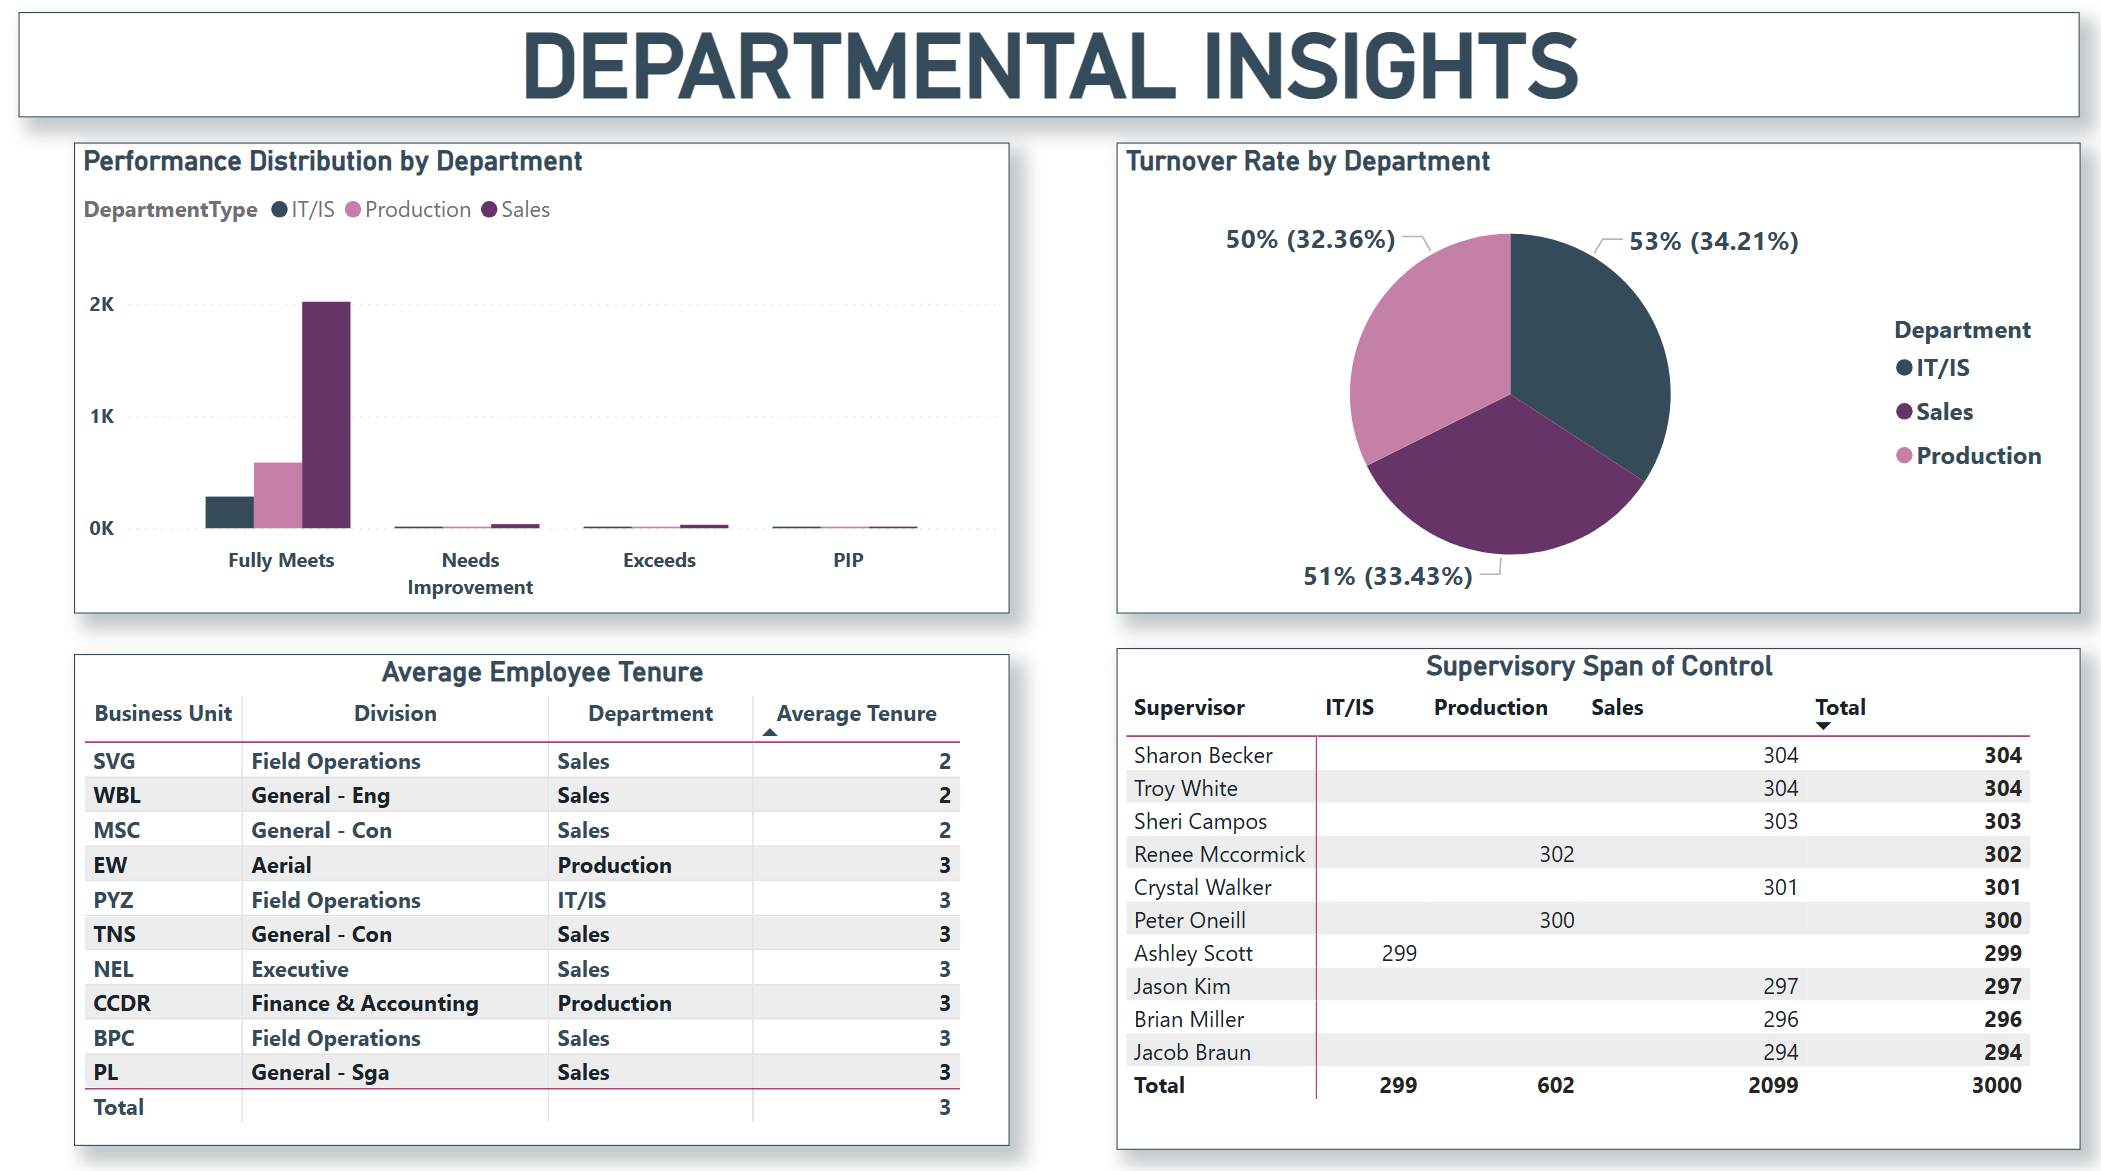

The page's visual inventory and layout, read from the dashboard file:
{"tool":"powerbi","page":{"name":"Departmental Insights","canvas":[1280,720],"ordinal":3},"visuals":[{"type":"lineClusteredColumnComboChart","title":"Performance Distribution by Department","fields":{"Category":["DIMJOB_TEMP.Performance Score"],"Y":["KPI_TABLE.Total Employees"],"Series":["DIM_ORGANIZATION.DepartmentType"]},"box":[47.5,91.5,567.8,286.2],"z":0},{"type":"tableEx","title":"Average Employee Tenure","fields":{"Values":["DIM_ORGANIZATION.BusinessUnit","DIM_ORGANIZATION.Division","DIM_ORGANIZATION.DepartmentType","KPI_TABLE.Average Tenure"]},"box":[47.5,402.1,567.8,299],"z":1000},{"type":"pieChart","title":"Turnover Rate by Department","fields":{"Category":["DIM_ORGANIZATION.DepartmentType"],"Y":["KPI_TABLE.Turnover Rate"]},"box":[680.2,91.5,585.2,286.2],"z":2000},{"type":"pivotTable","title":"Supervisory Span of Control","fields":{"Rows":["DIM_ORGANIZATION.Supervisor"],"Values":["KPI_TABLE.Total Employees"],"Columns":["DIM_ORGANIZATION.DepartmentType"]},"box":[680.2,398.6,585.2,304.7],"z":3000},{"type":"textbox","title":"DEPARTMENTAL INSIGHTS","box":[13.9,12.7,1251.4,63.7],"z":4000}]}

Visuals, with their boxes in screenshot pixels (x1, y1, x2, y2), scaled from the page's 1280x720 canvas onto the 2101x1171 screenshot:
"Performance Distribution by Department" lineClusteredColumnComboChart: (left=78, top=149, right=1010, bottom=614)
"Average Employee Tenure" tableEx: (left=78, top=654, right=1010, bottom=1140)
"Turnover Rate by Department" pieChart: (left=1116, top=149, right=2077, bottom=614)
"Supervisory Span of Control" pivotTable: (left=1116, top=648, right=2077, bottom=1144)
"DEPARTMENTAL INSIGHTS" textbox: (left=23, top=21, right=2077, bottom=124)
